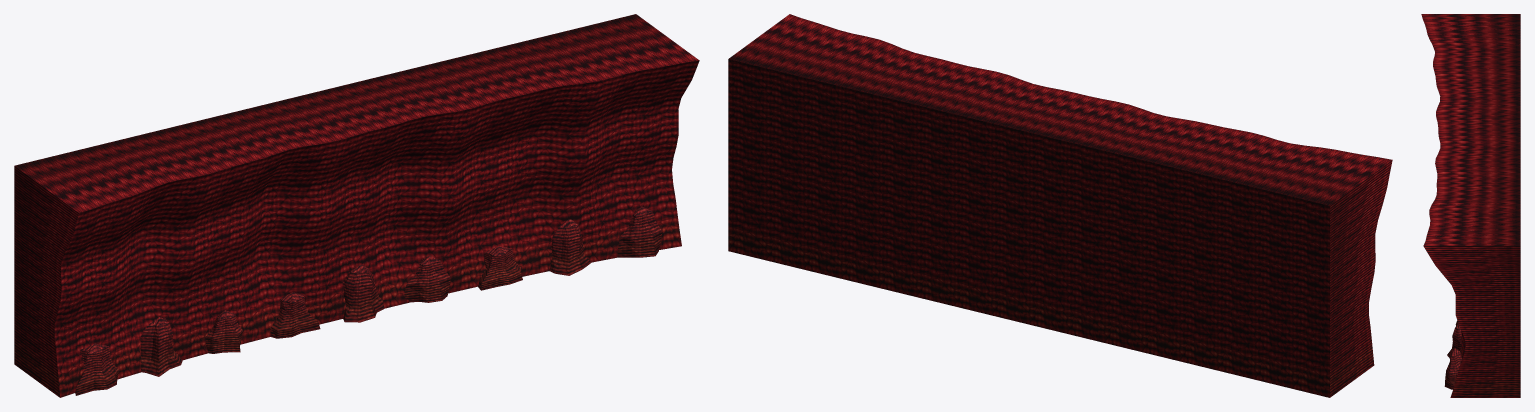
The model's file is Cavern_Wall_Long.glb.
3 renders of one model, left to right at view 1: azimuth 30°, elevation 25°; view 2: azimuth 150°, elevation 25°; view 3: azimuth 270°, elevation 25°, orthographic. The views are drawn at different scales.
Visible parts, largest first — view 1: Cavern_Wall_Long_FleshCliffs, Cavern_Wall_Long_ShoreBase; view 2: Cavern_Wall_Long_FleshCliffs; view 3: Cavern_Wall_Long_FleshCliffs, Cavern_Wall_Long_ShoreBase.
Boxes of the visible parts, x1=… form: Cavern_Wall_Long_FleshCliffs: x1=14, y1=14, x2=699, y2=397; Cavern_Wall_Long_ShoreBase: x1=75, y1=206, x2=662, y2=395; Cavern_Wall_Long_FleshCliffs: x1=728, y1=14, x2=1392, y2=397; Cavern_Wall_Long_FleshCliffs: x1=1421, y1=14, x2=1520, y2=397; Cavern_Wall_Long_ShoreBase: x1=1444, y1=320, x2=1461, y2=389.
Size of the model in its own units: 190 by 58 by 34.35.
2 materials, 2 textured.
